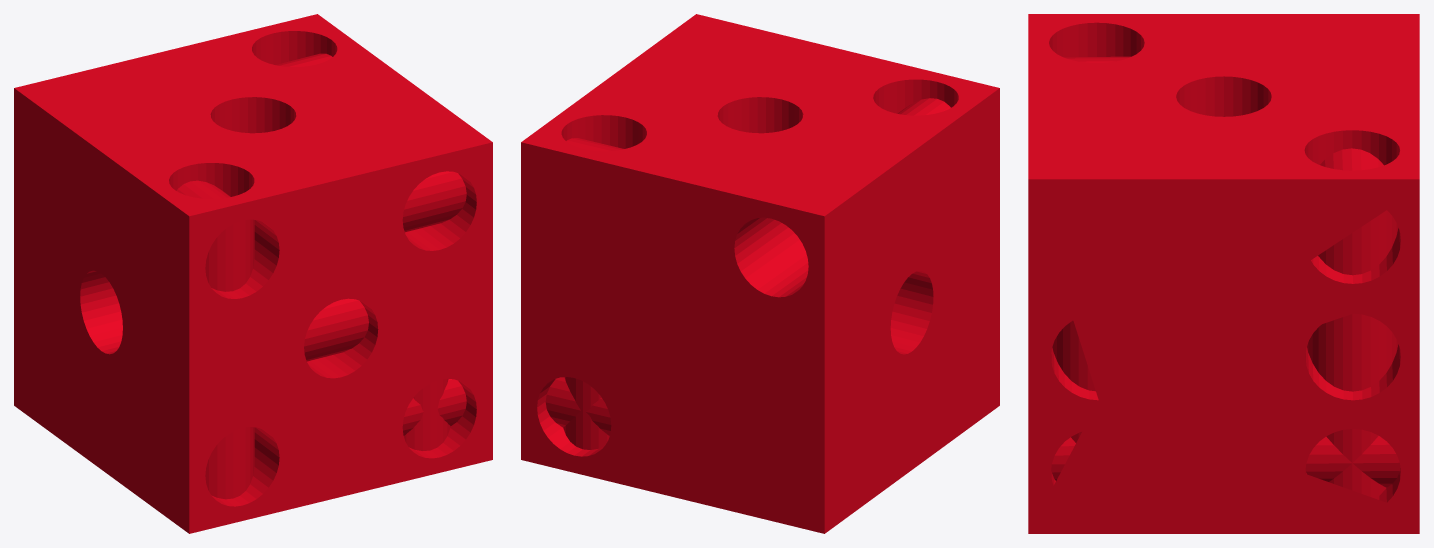
3 renders of one model, left to right at view 1: azimuth 30°, elevation 25°; view 2: azimuth 150°, elevation 25°; view 3: azimuth 270°, elevation 25°, orthographic. The views are drawn at different scales.
Visible parts, largest first — view 1: Cube; view 2: Cube; view 3: Cube.
Part boxes in pixels (x1,y1,x2,y2): Cube: (14, 14, 492, 533); Cube: (521, 14, 999, 533); Cube: (1028, 14, 1419, 533).
Size of the model in its own units: 200 by 200 by 200.
